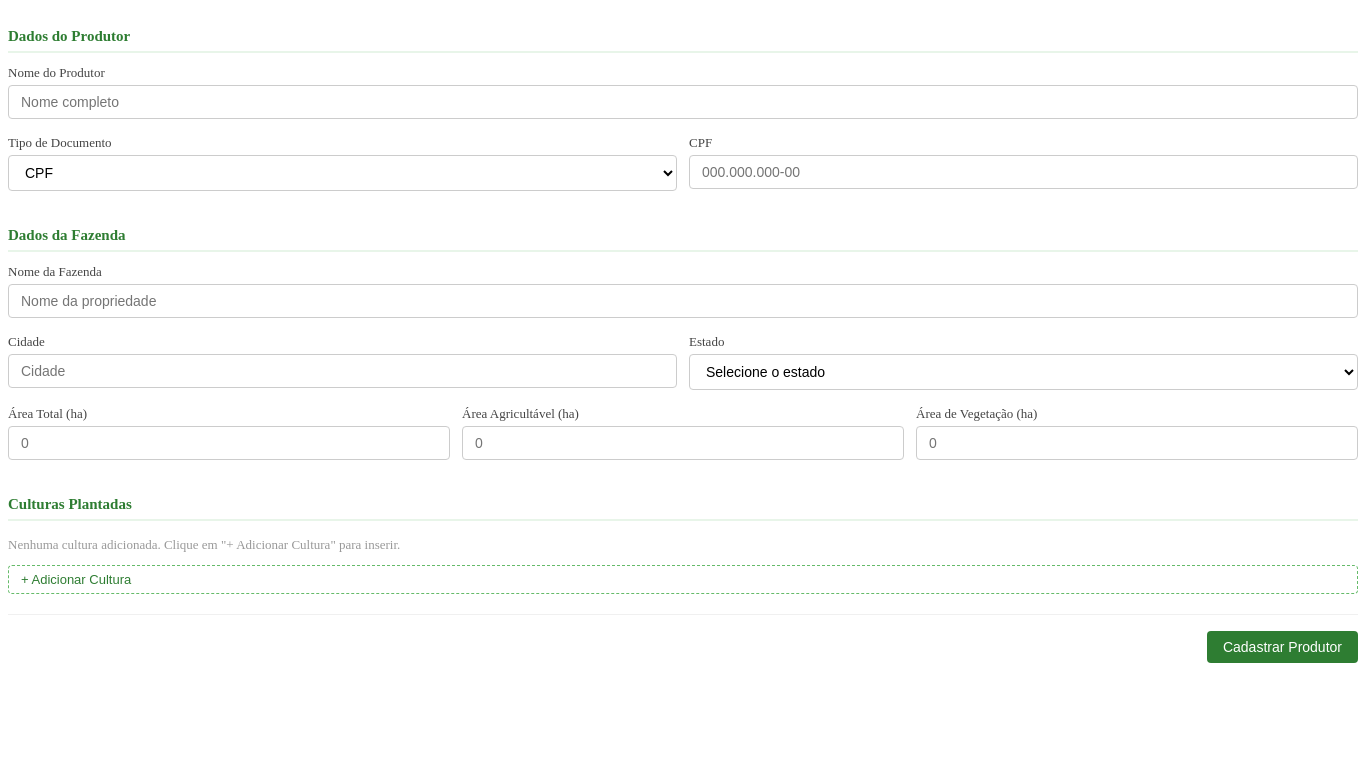
Test: ProducerForm — novo formulário unificado › Validações do produtor › exibe erro de CPF inválido
In the field labelled "Nome do Produtor": (683, 102) [8,85,1358,119], type "Teste"
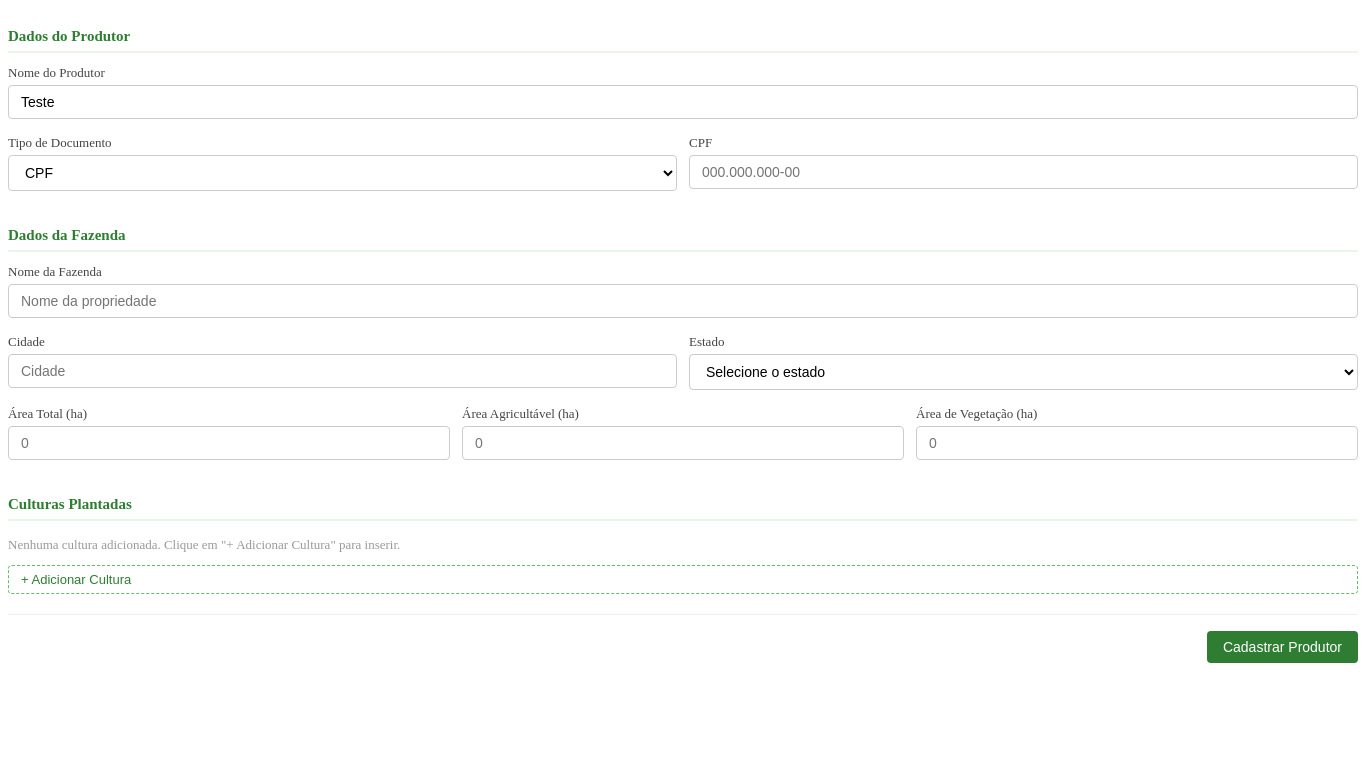
In the field labelled "CPF": (1024, 172) [689,155,1358,189], type "111.111.111-11"
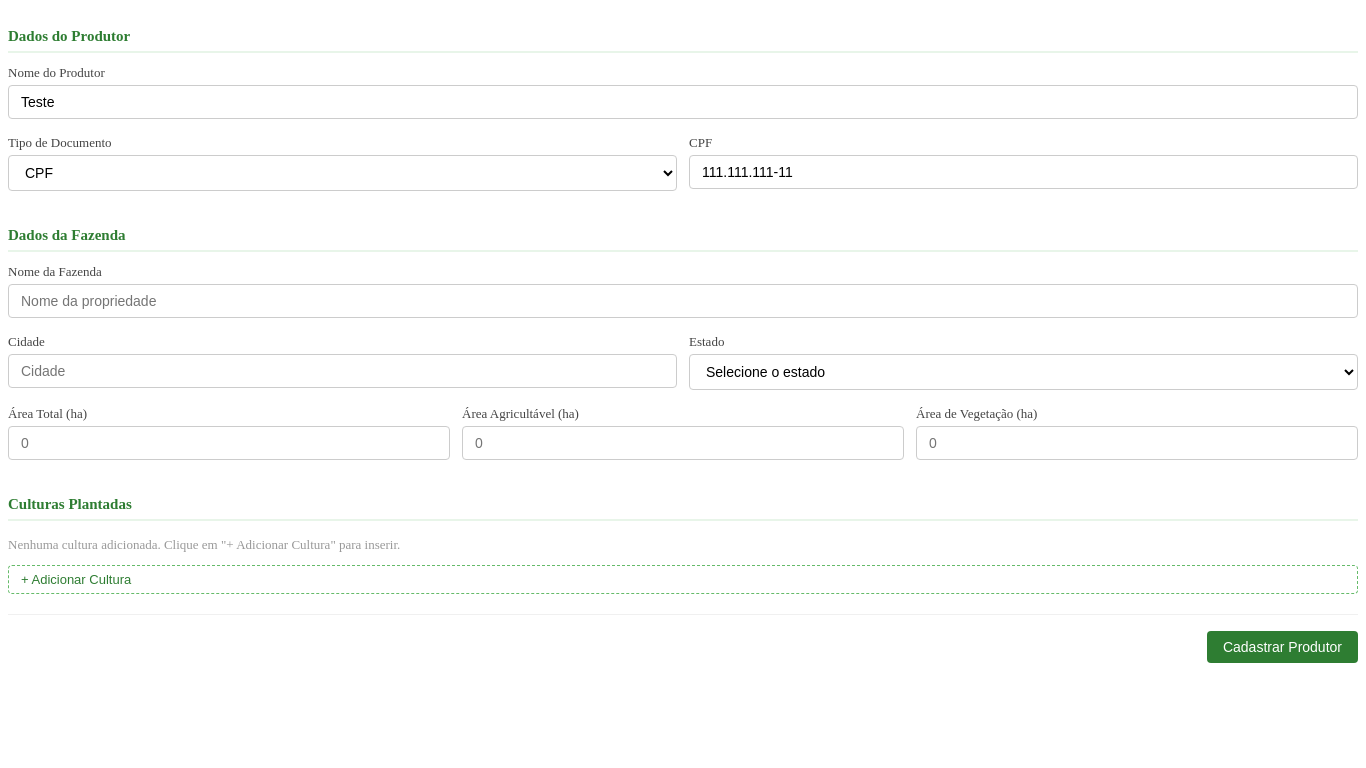
Click the button "Cadastrar Produtor": (1282, 647) [1207,631,1358,663]
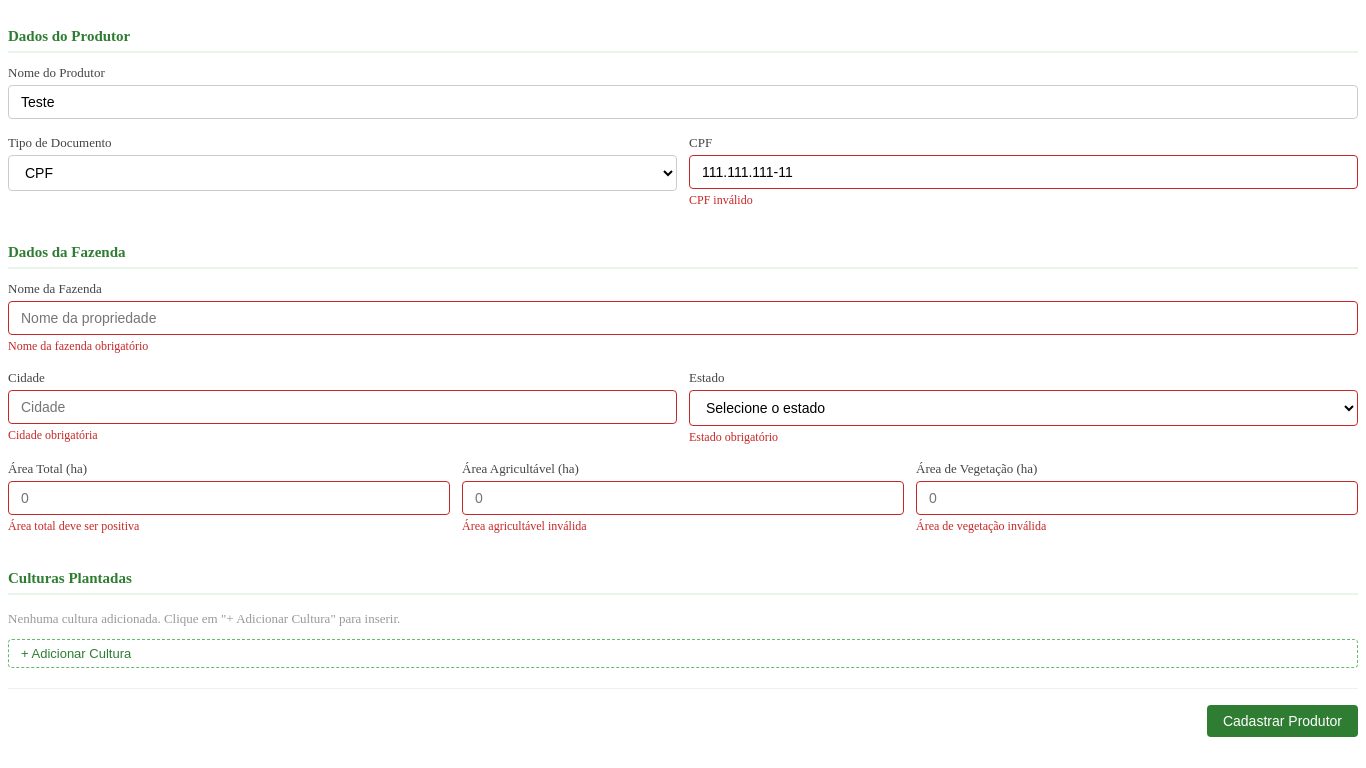
Expected: the text "CPF inválido" is shown, [689,193,753,207]
